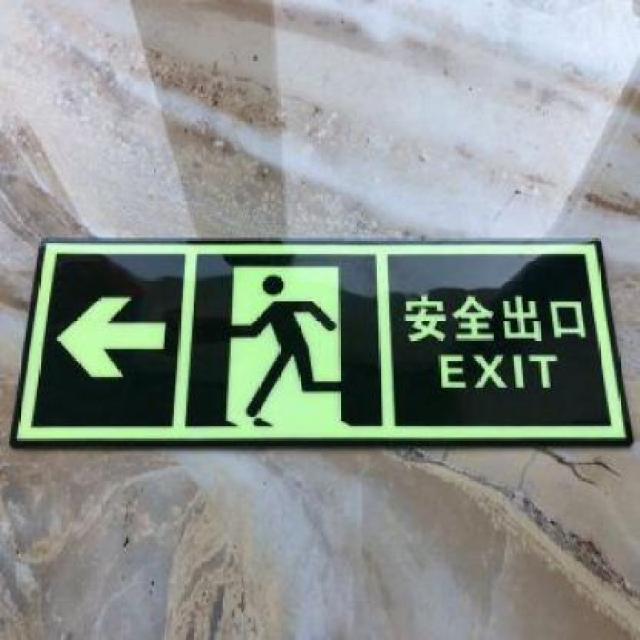exit_sign: (26, 234, 640, 448)
